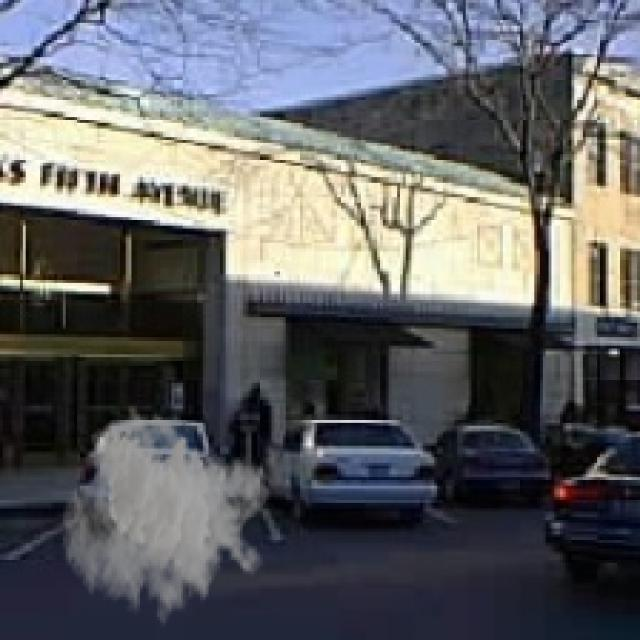Smoke: (60, 403, 272, 634)
